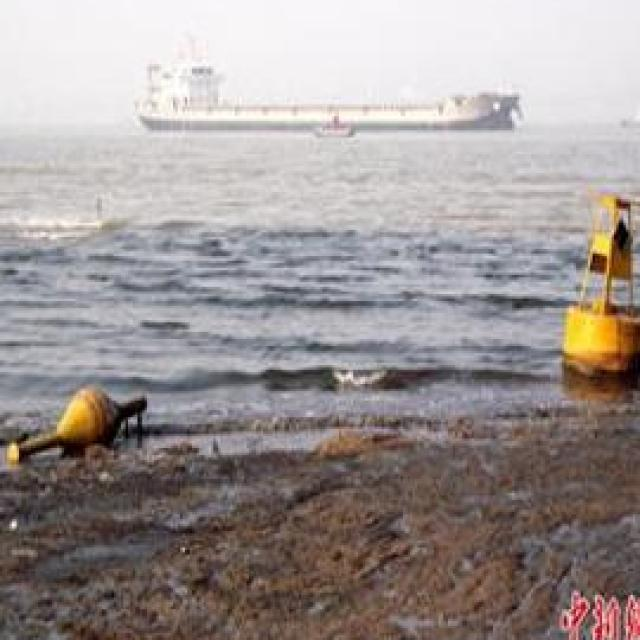buoy: (543, 192, 640, 372)
cargoship: (122, 43, 529, 141)
